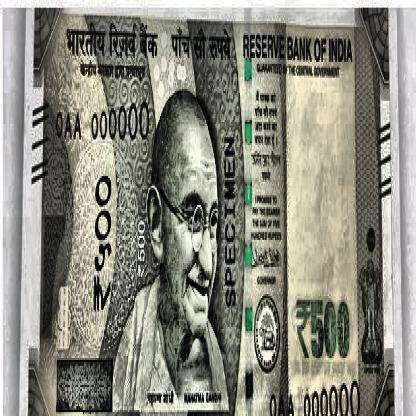Rs500: (291, 287, 355, 373)
